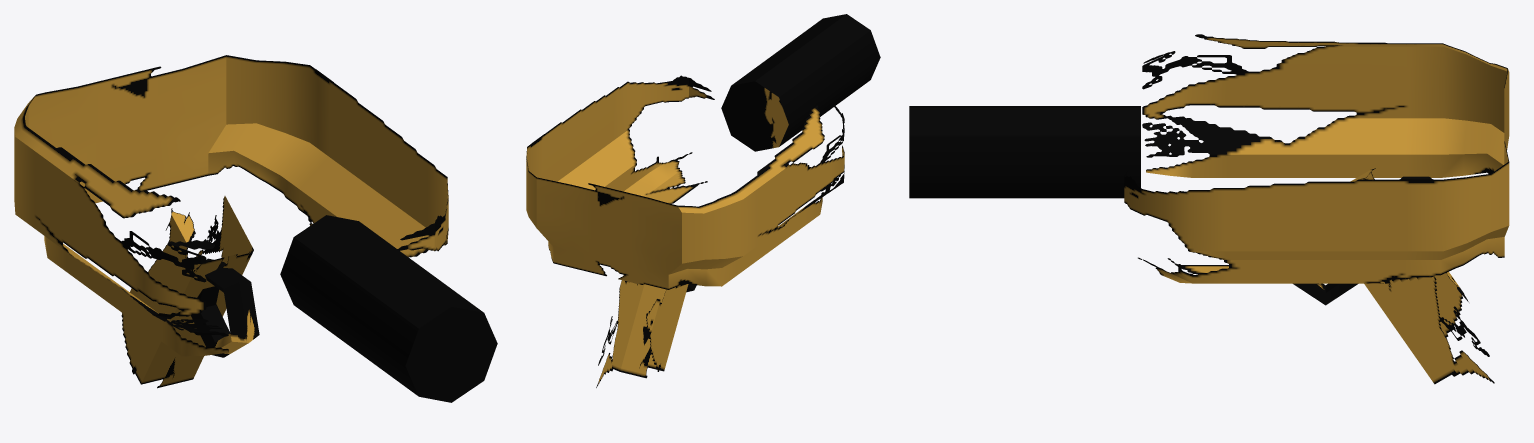
The model's file is gun.fbx.
The picture shows the model from 3 angles, left to right: view 1: azimuth 30°, elevation 25°; view 2: azimuth 150°, elevation 25°; view 3: azimuth 270°, elevation 25°; orthographic projection. The views are drawn at different scales.
Visible parts, largest first — view 1: Torus, Torus.001; view 2: Torus, Torus.001; view 3: Torus, Torus.001.
Part boxes in pixels (box(x1,y1,x2,y2)): Torus: box(14, 55, 448, 388); Torus.001: box(280, 215, 497, 402); Torus: box(526, 75, 844, 387); Torus.001: box(721, 14, 880, 151); Torus: box(1124, 34, 1509, 384); Torus.001: box(909, 106, 1140, 198).
Size of the model in its own units: 24.81 by 31.27 by 48.05.
